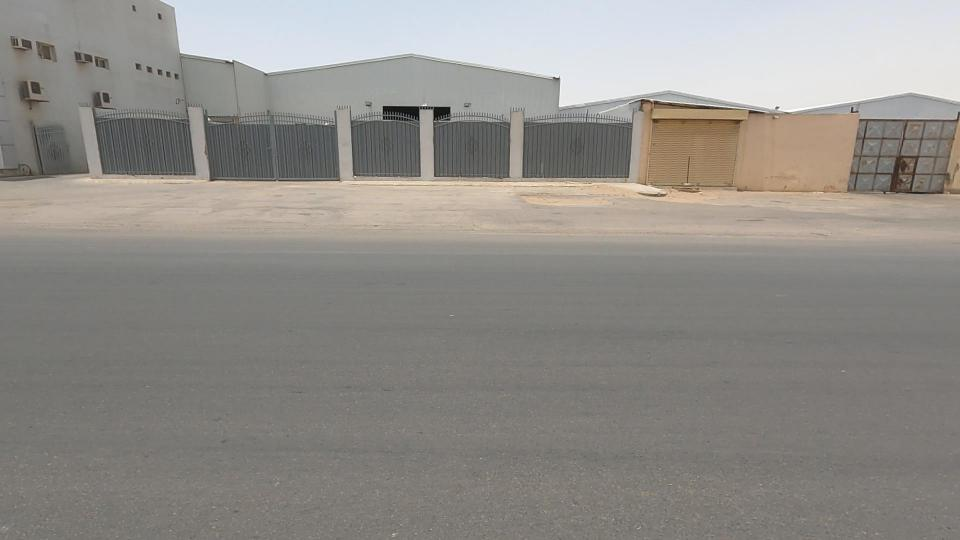POTHOLES: (483, 163, 603, 245)
